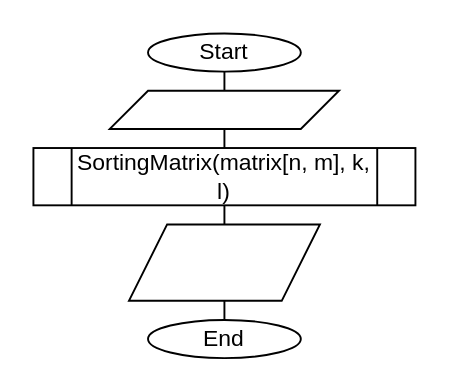
Image size: 449x392. Some labels were removed from this diagram. The centre of each missing label's shape, as x and y in pixels:
"matrix sortedMatrix" goes at point 223,262.
"n, m, k, l" goes at point 223,109.
